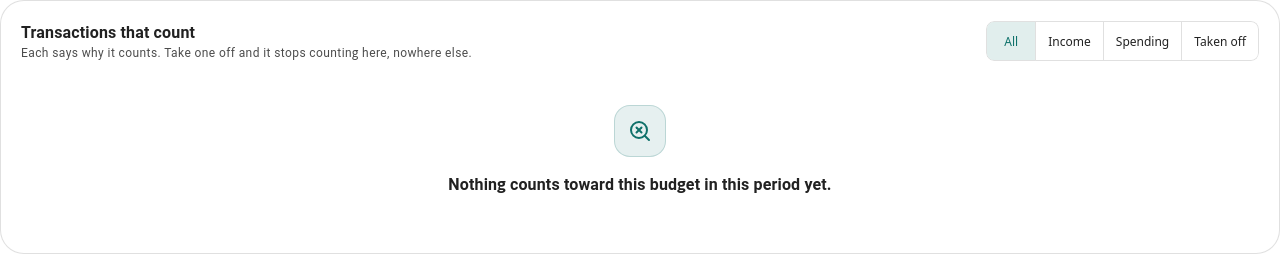
Scenario: BudgetTransactions › says so when nothing counts under spending
Click the button "Spending".
click(1143, 41)  # box [1104,21,1182,61]
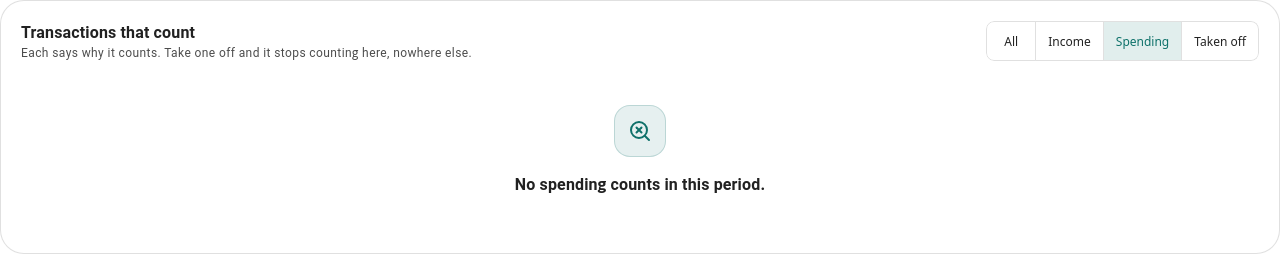
Result: the element with test id "transactions-empty" reads "No spending counts in this period." at [515,175,765,194]
